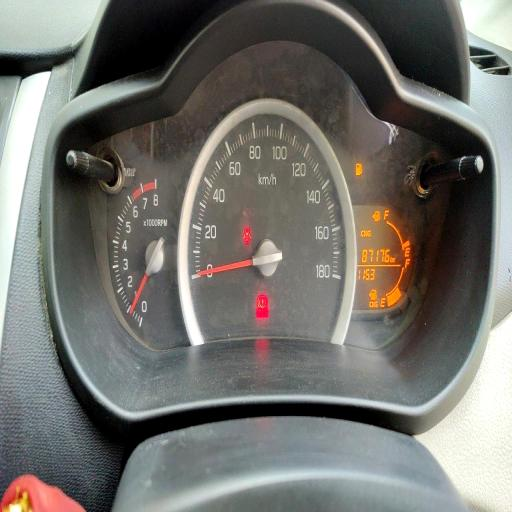tachometer: (113, 180, 176, 328)
